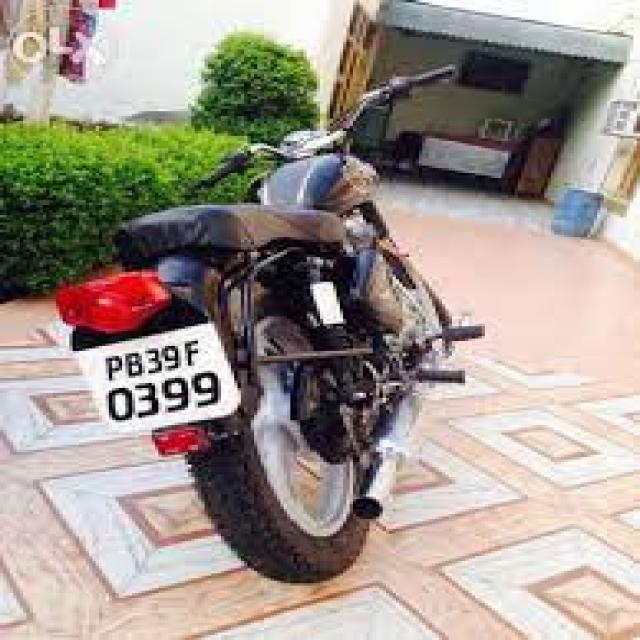license_plate: (79, 322, 241, 432)
